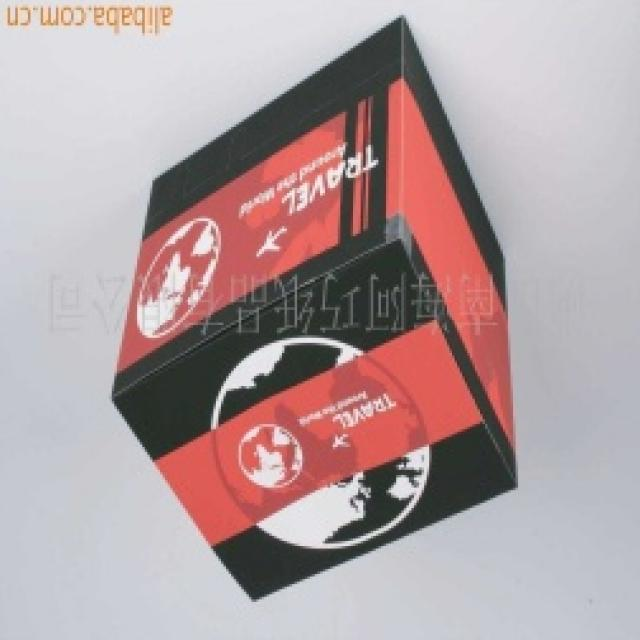box: (128, 19, 529, 566)
